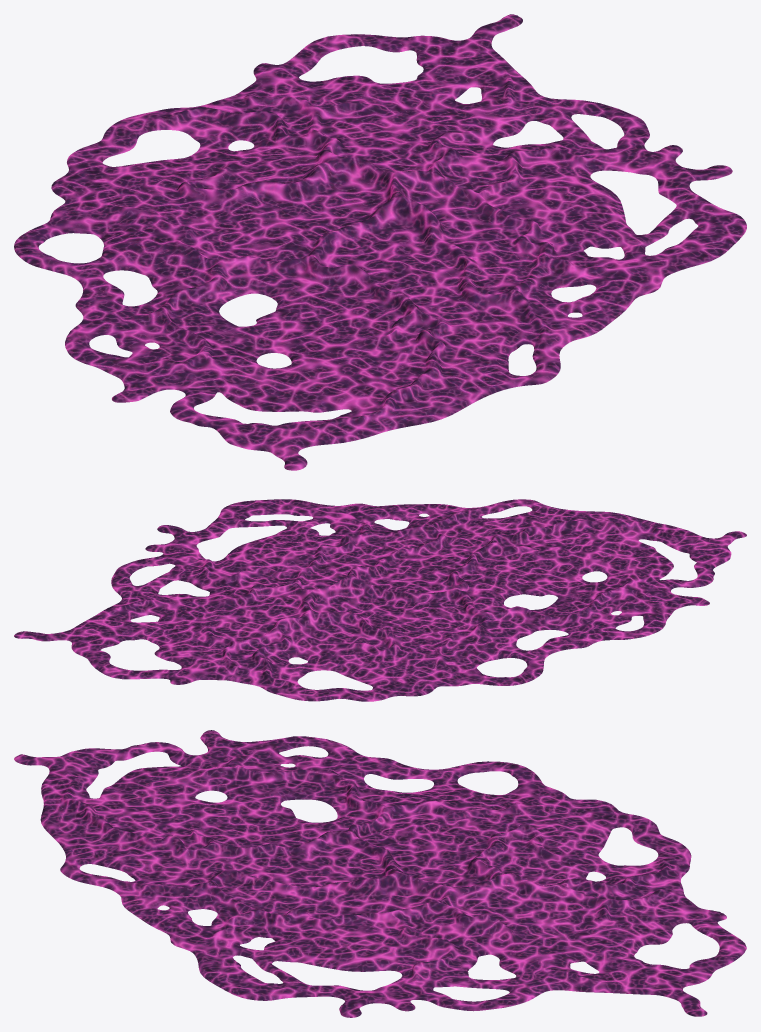
File: caos_stl_chaosgrowth_01c_chaos_v36.glb
The picture shows the model from 3 angles, top to bottom: view 1: azimuth 30°, elevation 25°; view 2: azimuth 150°, elevation 25°; view 3: azimuth 270°, elevation 25°; orthographic projection. The views are drawn at different scales.
Parts seen in each view (by area): view 1: caos_stl_chaosgrowth_01c; view 2: caos_stl_chaosgrowth_01c; view 3: caos_stl_chaosgrowth_01c.
Part boxes in pixels (x1,y1,x2,y2): caos_stl_chaosgrowth_01c: [14, 14, 746, 470]; caos_stl_chaosgrowth_01c: [14, 499, 746, 701]; caos_stl_chaosgrowth_01c: [14, 730, 746, 1017].
Bounding box in the file's own units: 28.5 × 1.04 × 30.74.
1 material, 1 textured.
